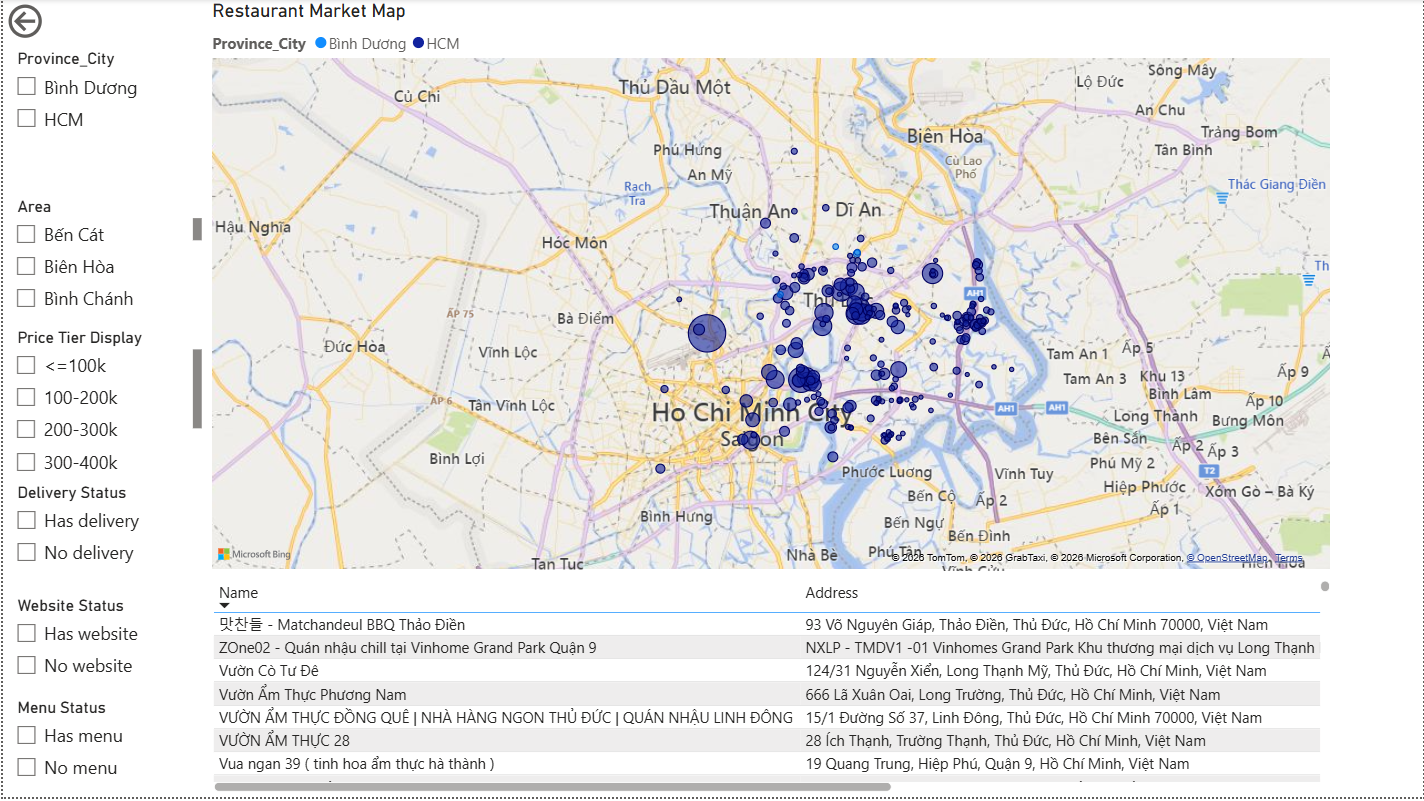

The page's visual inventory and layout, read from the dashboard file:
{"tool":"powerbi","page":{"name":"Page 2","canvas":[1280,720],"ordinal":1},"visuals":[{"type":"map","title":"Restaurant Market Map","fields":{"Y":["restaurants_cleaned.Latitude"],"X":["restaurants_cleaned.Longitude"],"Series":["restaurants_cleaned.Province_City"],"Size":["_Measures.Total Reviews"]},"box":[184,0,1018,520],"z":0},{"type":"slicer","fields":{"Values":["restaurants_cleaned.Province_City"]},"box":[0,41,184,133],"z":1000},{"type":"actionButton","box":[0,0,100,40],"z":2000},{"type":"slicer","fields":{"Values":["restaurants_cleaned.Area"]},"box":[0,174,184,118],"z":3000},{"type":"slicer","fields":{"Values":["restaurants_cleaned.Price Tier Display"]},"box":[0,292,184,140],"z":4000},{"type":"slicer","fields":{"Values":["restaurants_cleaned.Delivery Status"]},"box":[0,432,184,101],"z":5000},{"type":"slicer","fields":{"Values":["restaurants_cleaned.Website Status"]},"box":[0,533,184,92],"z":6000},{"type":"slicer","fields":{"Values":["restaurants_cleaned.Menu Status"]},"box":[0,625,184,95],"z":7000},{"type":"tableEx","fields":{"Values":["restaurants_cleaned.Name","restaurants_cleaned.Address","restaurants_cleaned.Area","restaurants_cleaned.Price_Tier","restaurants_cleaned.Has_Delivery","restaurants_cleaned.Has_Website","restaurants_cleaned.Has_Menu"]},"box":[184,520,1018,200],"z":8000}]}

Visuals, with their boxes on the page's 1280x720 design canvas (x1, y1, x2, y2). These are canvas units, not pixel positions in the 1424x801 screenshot, which may show the page scaled, cropped or inside an application window:
"Restaurant Market Map" map: select_region(184, 0, 1202, 520)
slicer - restaurants_cleaned.Province_City: select_region(0, 41, 184, 174)
actionButton: select_region(0, 0, 100, 40)
slicer - restaurants_cleaned.Area: select_region(0, 174, 184, 292)
slicer - restaurants_cleaned.Price Tier Display: select_region(0, 292, 184, 432)
slicer - restaurants_cleaned.Delivery Status: select_region(0, 432, 184, 533)
slicer - restaurants_cleaned.Website Status: select_region(0, 533, 184, 625)
slicer - restaurants_cleaned.Menu Status: select_region(0, 625, 184, 720)
tableEx - restaurants_cleaned.Name x restaurants_cleaned.Address: select_region(184, 520, 1202, 720)
